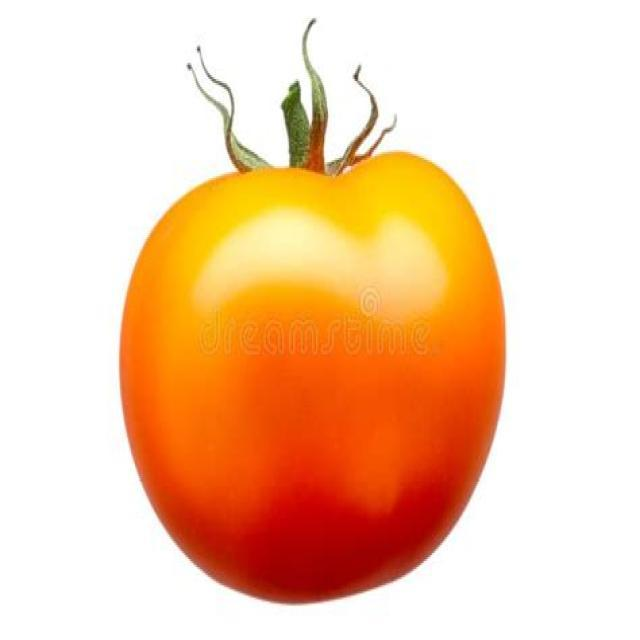Tomato: (118, 151, 509, 608)
